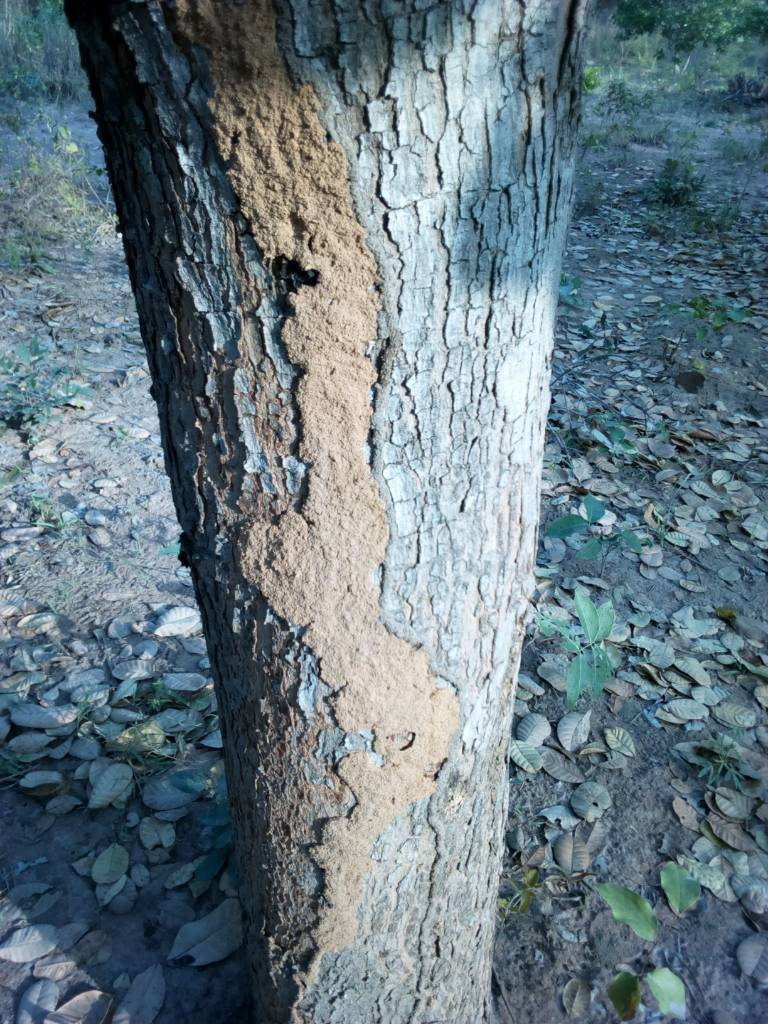Virose: (169, 7, 505, 971)
